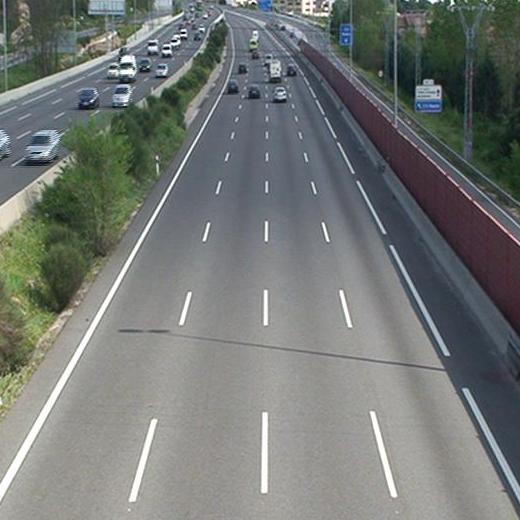car: (271, 87, 288, 105), (225, 79, 239, 94), (247, 85, 260, 98), (287, 63, 296, 74), (236, 63, 245, 74)
van: (267, 60, 283, 83)
